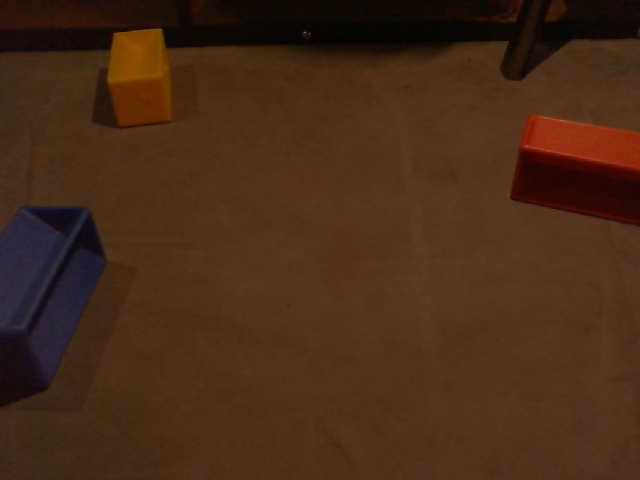BlueSample: (1, 203, 106, 394)
RedSample: (513, 103, 640, 230)
YellowSample: (104, 26, 178, 132)
